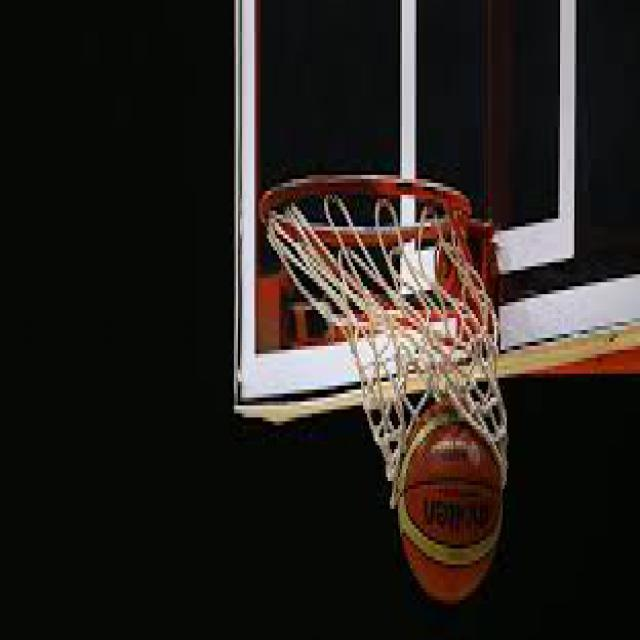basketball: (400, 398, 505, 608)
rim: (260, 174, 472, 254)
